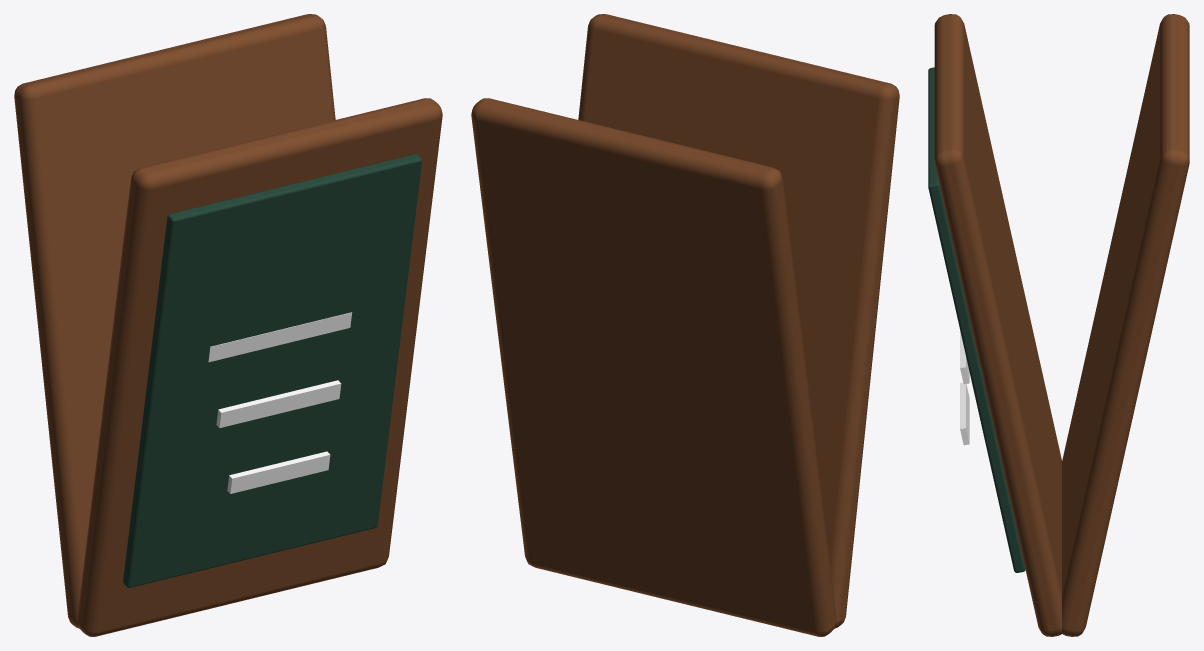
Rendered from menu_board.glb.
3 views of the same model, side by side, from view 1: azimuth 30°, elevation 25°; view 2: azimuth 150°, elevation 25°; view 3: azimuth 270°, elevation 25° (orthographic). The views are drawn at different scales.
Visible parts, largest first — view 1: menu_board; view 2: menu_board; view 3: menu_board.
Boxes of the visible parts, bbox=[...] form: menu_board: bbox=[14, 14, 442, 636]; menu_board: bbox=[471, 14, 899, 636]; menu_board: bbox=[928, 14, 1189, 636].
Size of the model in its own units: 0.56 by 0.884 by 0.4303.
